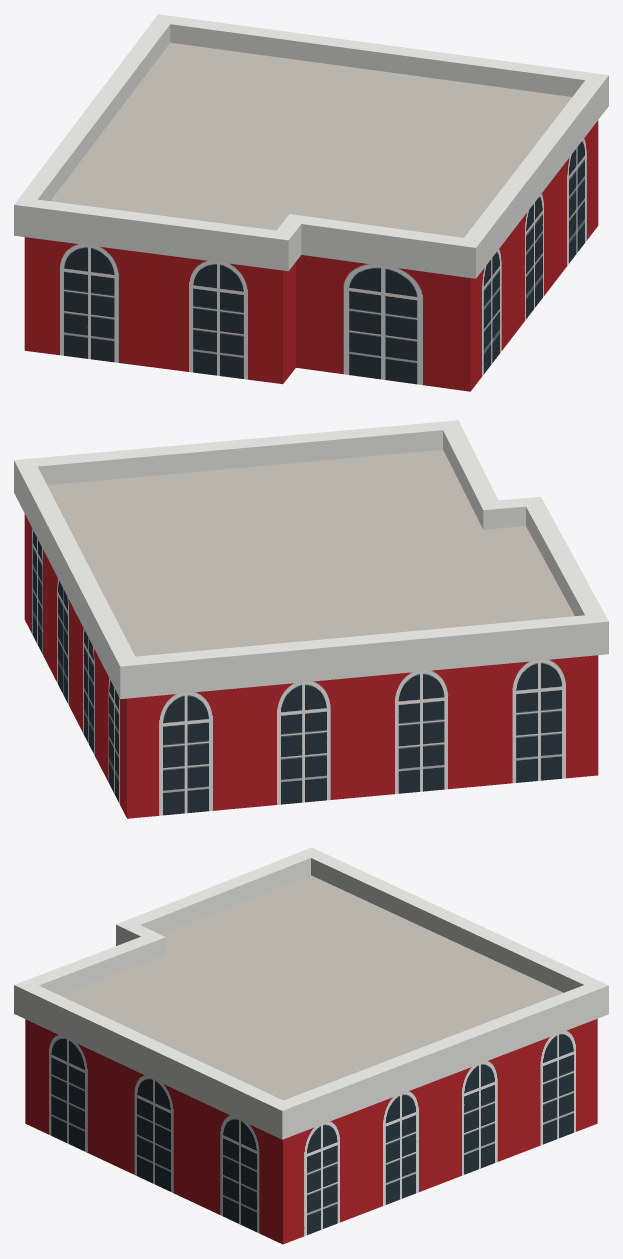
File: nd_redcactus.glb
The picture shows the model from 3 angles, top to bottom: view 1: azimuth 30°, elevation 25°; view 2: azimuth 150°, elevation 25°; view 3: azimuth 270°, elevation 25°; orthographic projection. The views are drawn at different scales.
Parts seen in each view (by area): view 1: nd_redcactus_lod0; view 2: nd_redcactus_lod0; view 3: nd_redcactus_lod0.
Part boxes in pixels (<box>): nd_redcactus_lod0: <box>14,14,608,391</box>; nd_redcactus_lod0: <box>14,420,608,818</box>; nd_redcactus_lod0: <box>14,847,608,1244</box>.
Size of what is drawn, in the model's own units: 19.61 by 4.8 by 18.71.
Materials: 3 (1 with a texture image).
